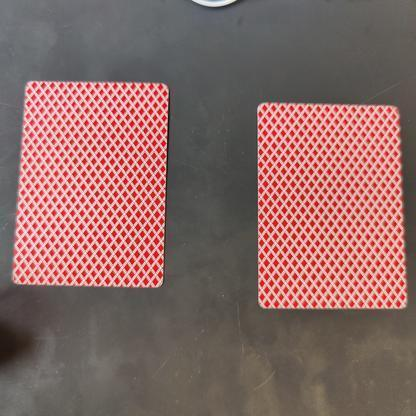card: (243, 96, 413, 318), (7, 74, 177, 296)
